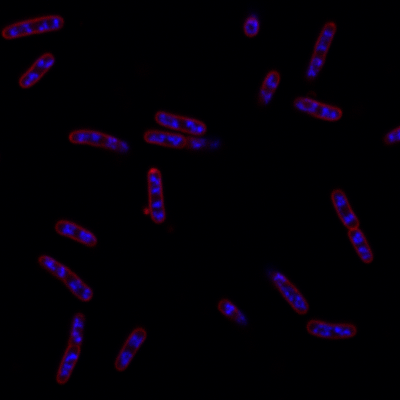Control: (328, 186, 375, 266), (37, 253, 96, 303), (53, 309, 90, 384), (0, 12, 65, 41), (17, 47, 57, 91), (293, 94, 348, 125), (112, 327, 147, 372), (53, 217, 99, 248), (155, 110, 209, 135), (146, 166, 168, 226), (306, 318, 359, 340)
Oblique: (256, 261, 311, 317), (141, 127, 228, 154), (303, 18, 338, 81), (66, 127, 135, 156), (217, 297, 252, 330), (255, 71, 281, 109), (240, 9, 263, 38)
